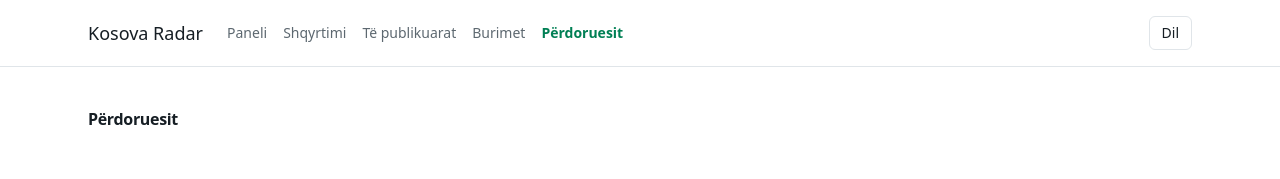
it: AdminLayout › stays signed in and says so when logout fails
Click the button "Dil". click: (1170, 33)
box: [1148,16,1192,50]
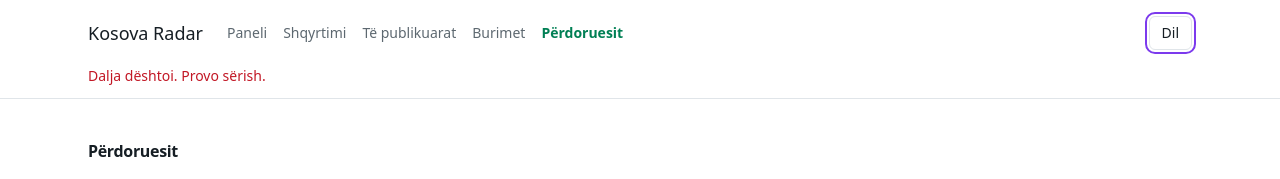
Expected: the heading "Përdoruesit" is shown, [88,140,178,162]
Result: the text "Dalja dështoi. Provo sërish." is shown at [88,66,266,85]
